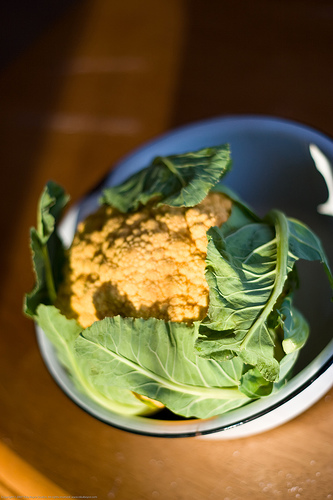cauliflower: (22, 143, 321, 422)
